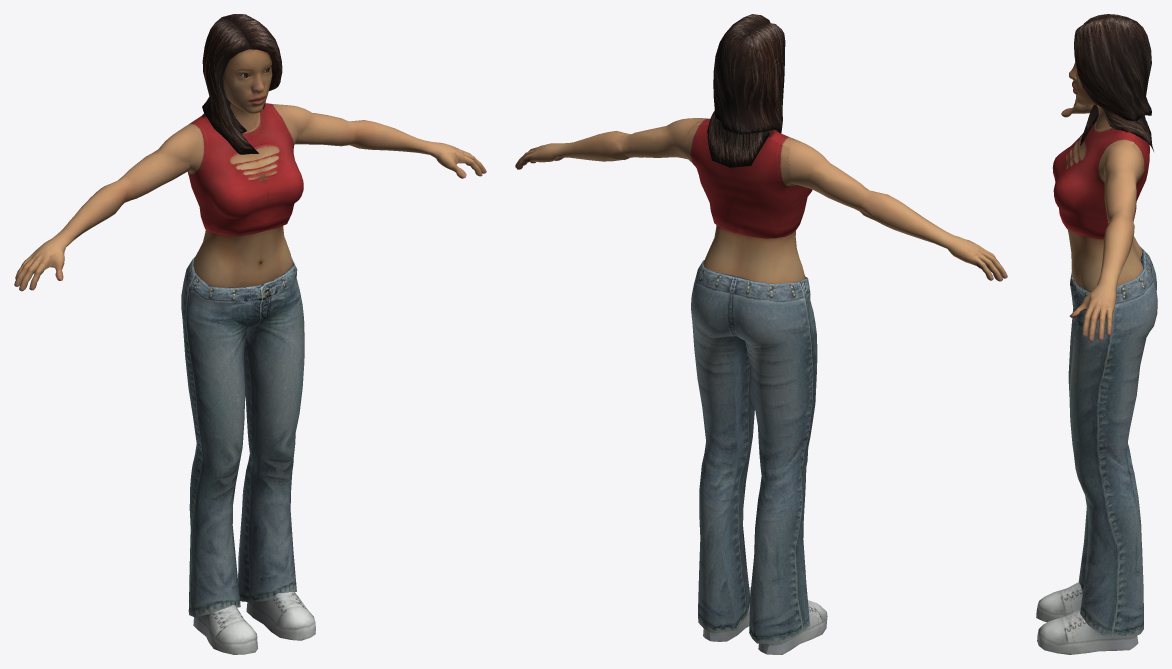
The model's file is girl_3.obj.
The picture shows the model from 3 angles, left to right: view 1: azimuth 30°, elevation 25°; view 2: azimuth 150°, elevation 25°; view 3: azimuth 270°, elevation 25°; orthographic projection. The views are drawn at different scales.
Visible parts, largest first — view 1: girl3_d.tga, hair_d.tga; view 2: girl3_d.tga, hair_d.tga; view 3: girl3_d.tga, hair_d.tga.
Part boxes in pixels (x1=…): girl3_d.tga: x1=14, y1=49, x2=486, y2=654; hair_d.tga: x1=202, y1=14, x2=282, y2=154; girl3_d.tga: x1=515, y1=118, x2=1007, y2=654; hair_d.tga: x1=707, y1=14, x2=785, y2=167; girl3_d.tga: x1=1036, y1=52, x2=1157, y2=654; hair_d.tga: x1=1074, y1=14, x2=1153, y2=151.
Size of the model in its own units: 1.5 by 1.84 by 0.3301.
2 materials, 2 textured.
